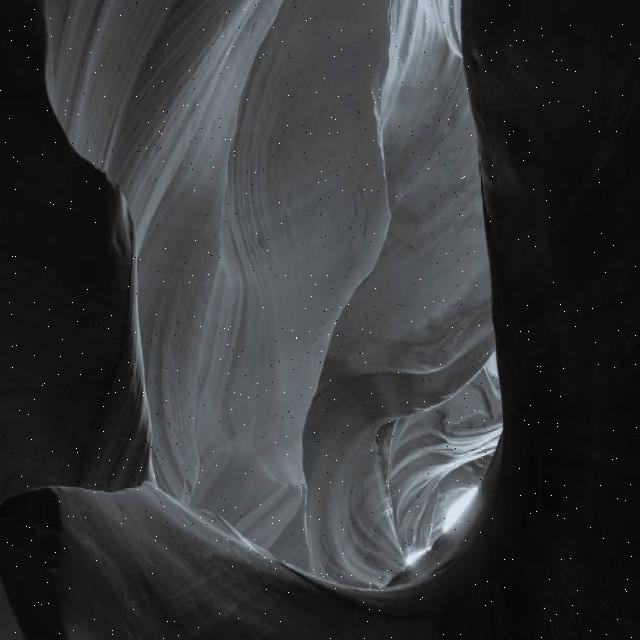Sedimentary: (40, 1, 512, 604)
